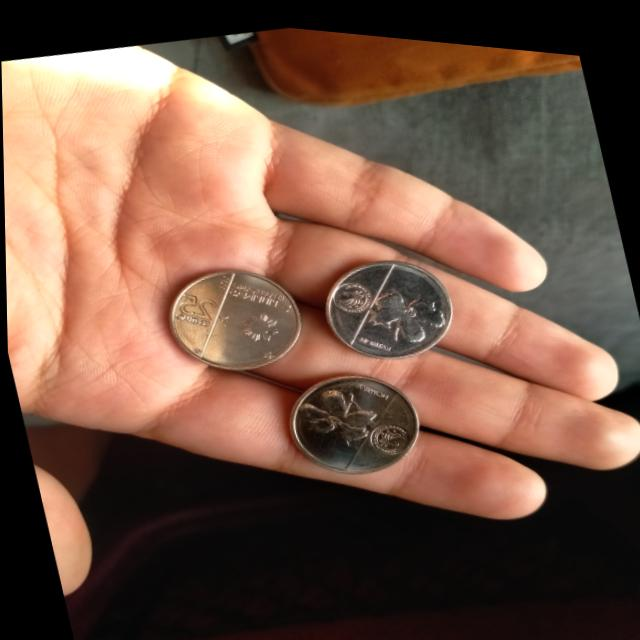25Cent_New_Back: (295, 369, 394, 456), (358, 268, 449, 352)
25Cent_New_Front: (161, 275, 239, 344)
